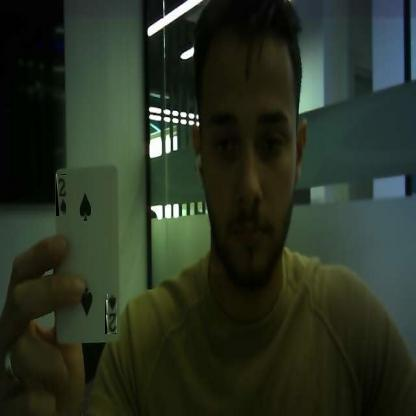2S: (105, 294, 117, 334), (56, 174, 66, 216)
